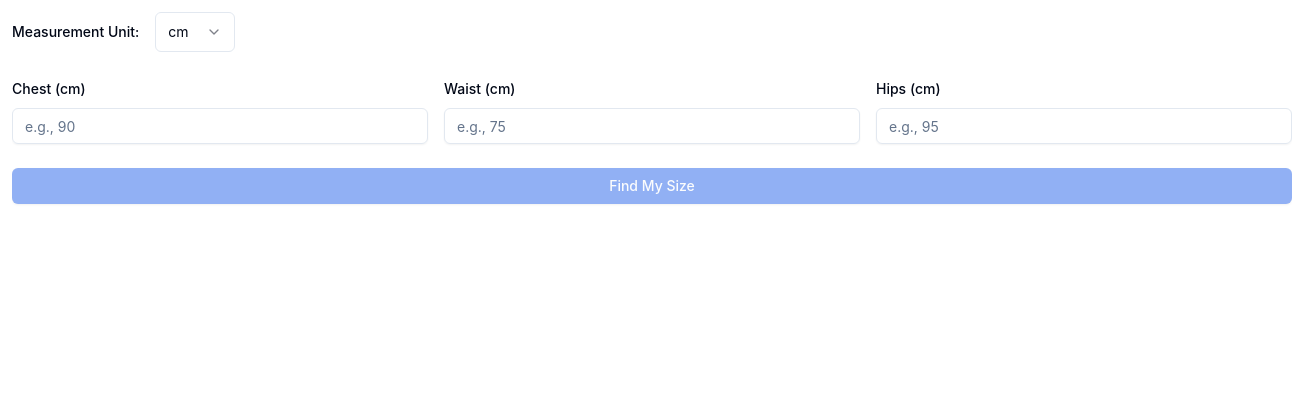
Scenario: FitFinder › should find size based on chest measurement
Type "90" into the number field with test id "input-chest".
click(220, 126); type("90")  # box [12,108,428,144]
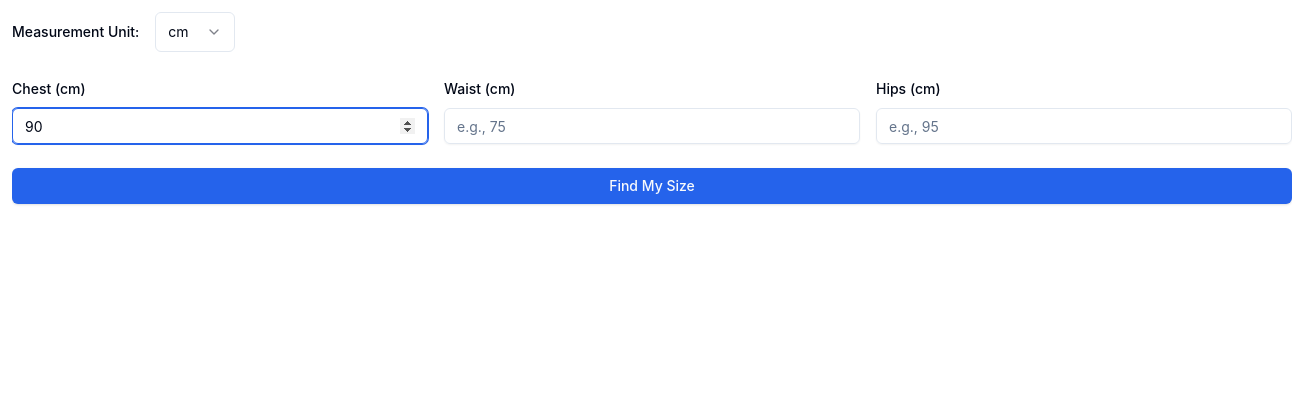
Click the button with test id "find-size-button".
click(652, 186)  # box [12,168,1292,204]
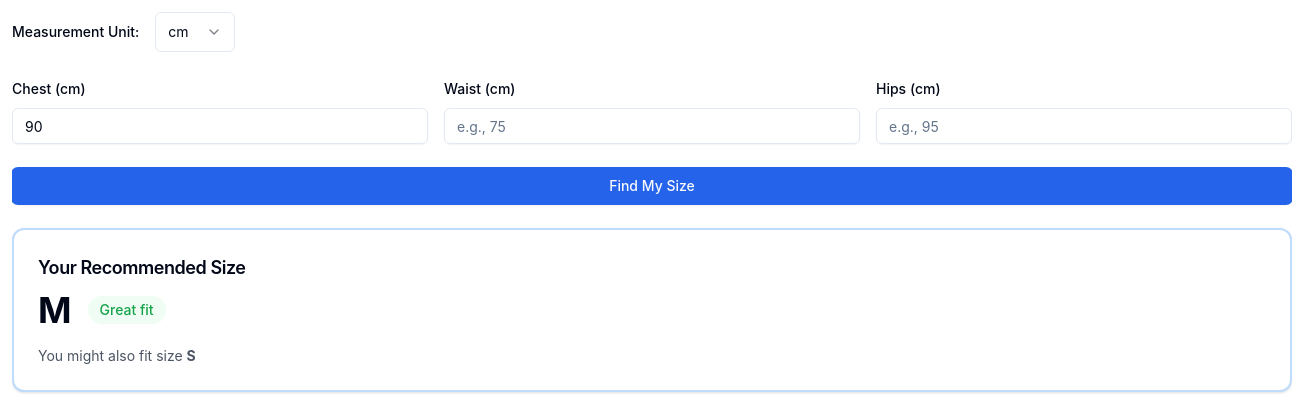
Check: the element with test id "fit-finder-result" is shown, box [12,228,1292,392]
Check: the text with test id "recommended-size" reads "M", box [38,288,72,332]
